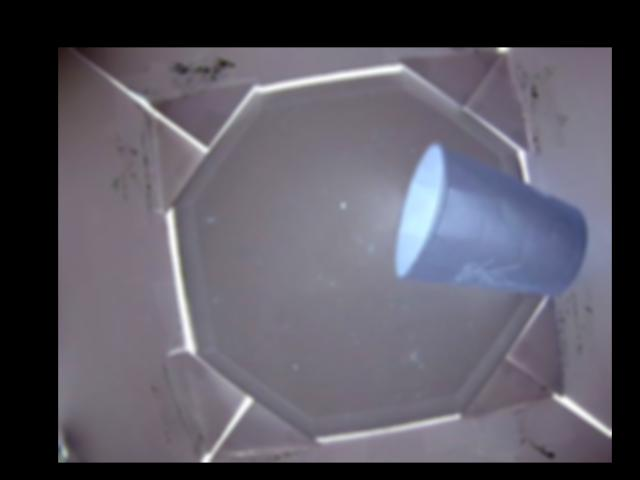Cup: (396, 140, 586, 293)
